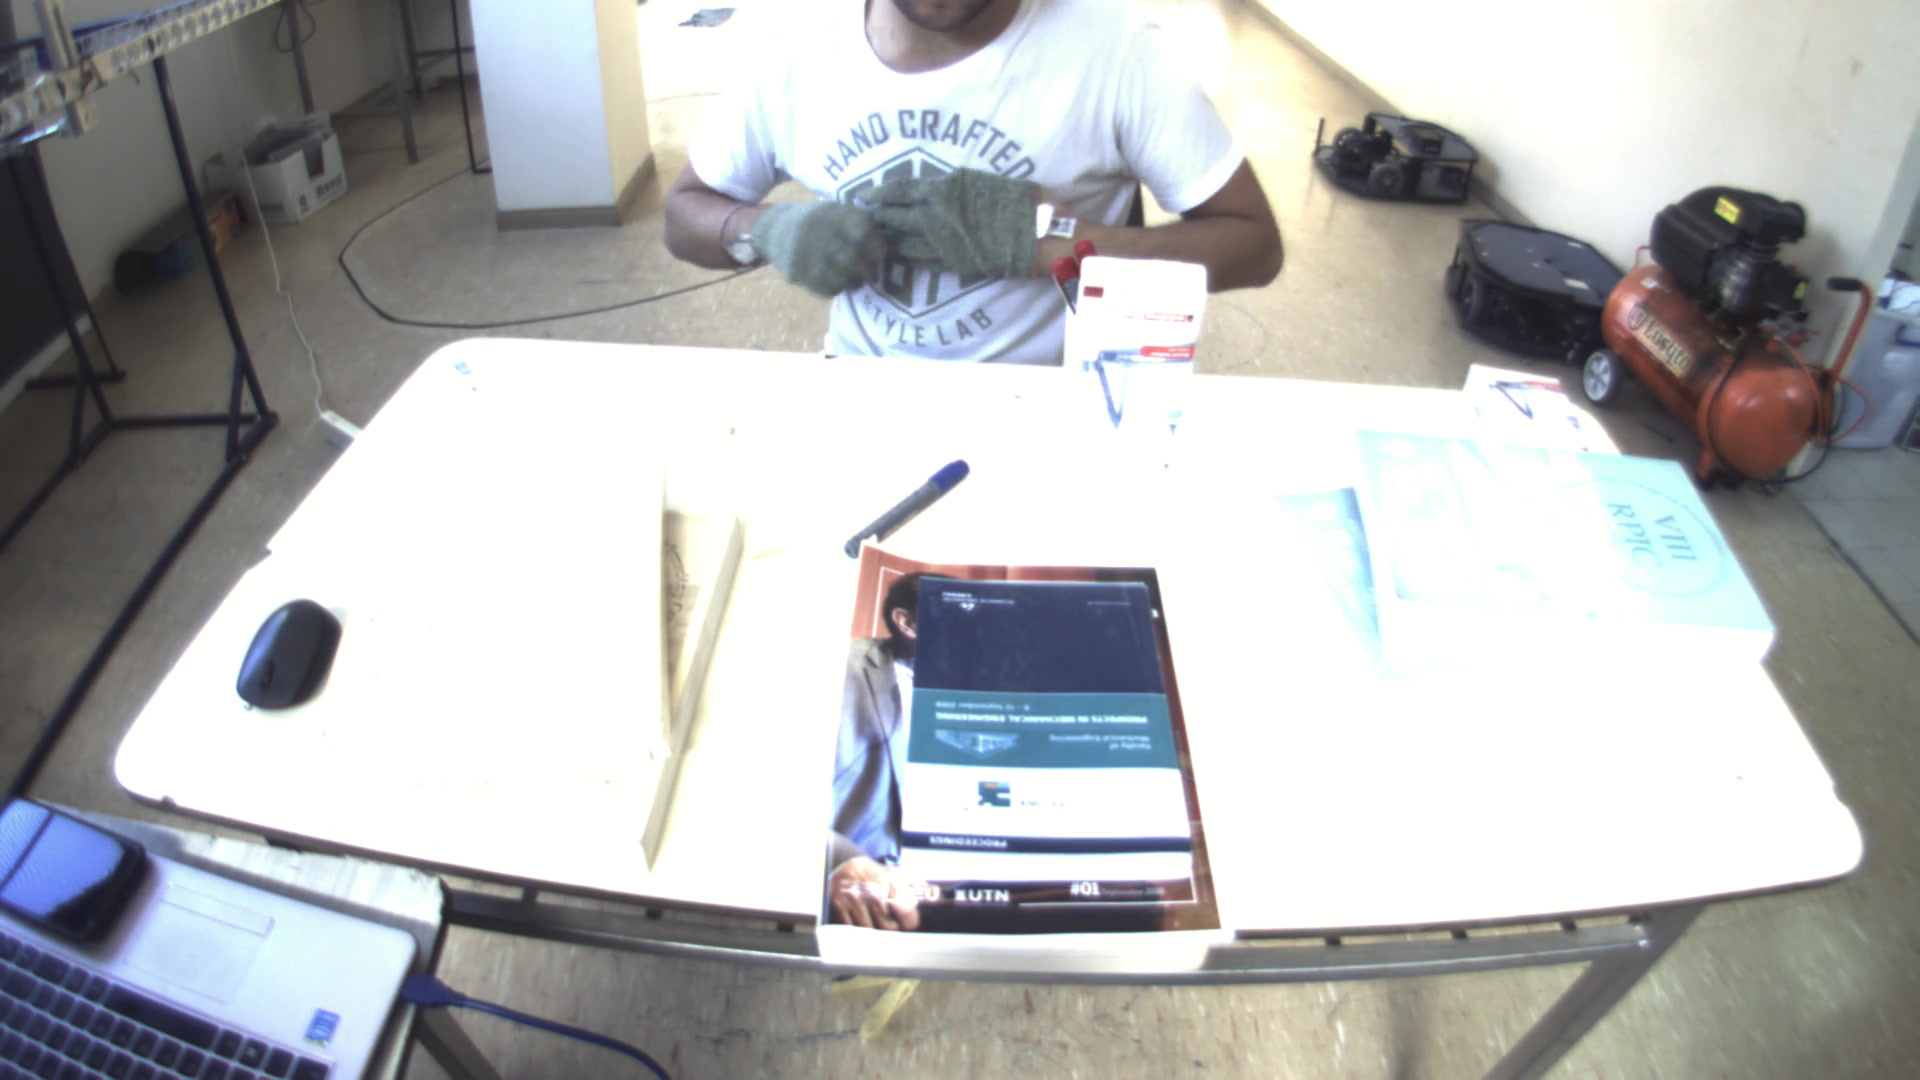hand: (874, 164, 1062, 293), (731, 185, 898, 297)
